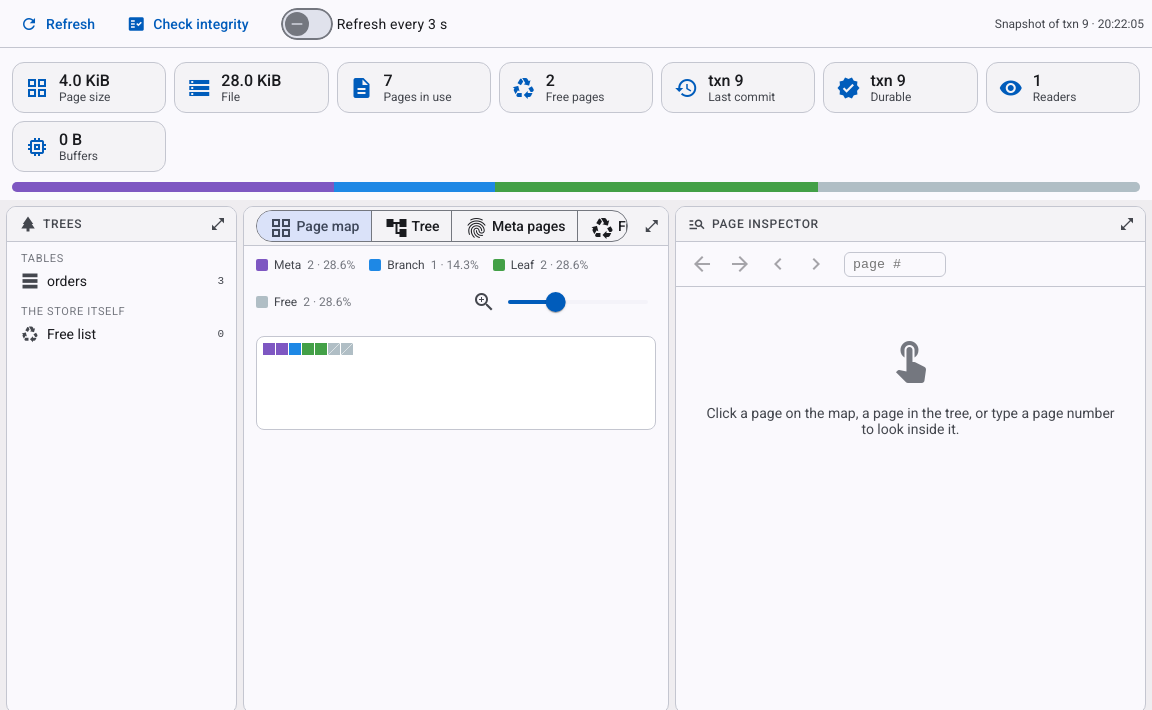
Scenario: VisualizeComponent › shows the meta pages, the current one marked
This screenshot has width=1152, height=710.
Step 1. Click the radio button labelled "Meta pages" → (515, 226), box x1=452 y1=211 x2=578 y2=241
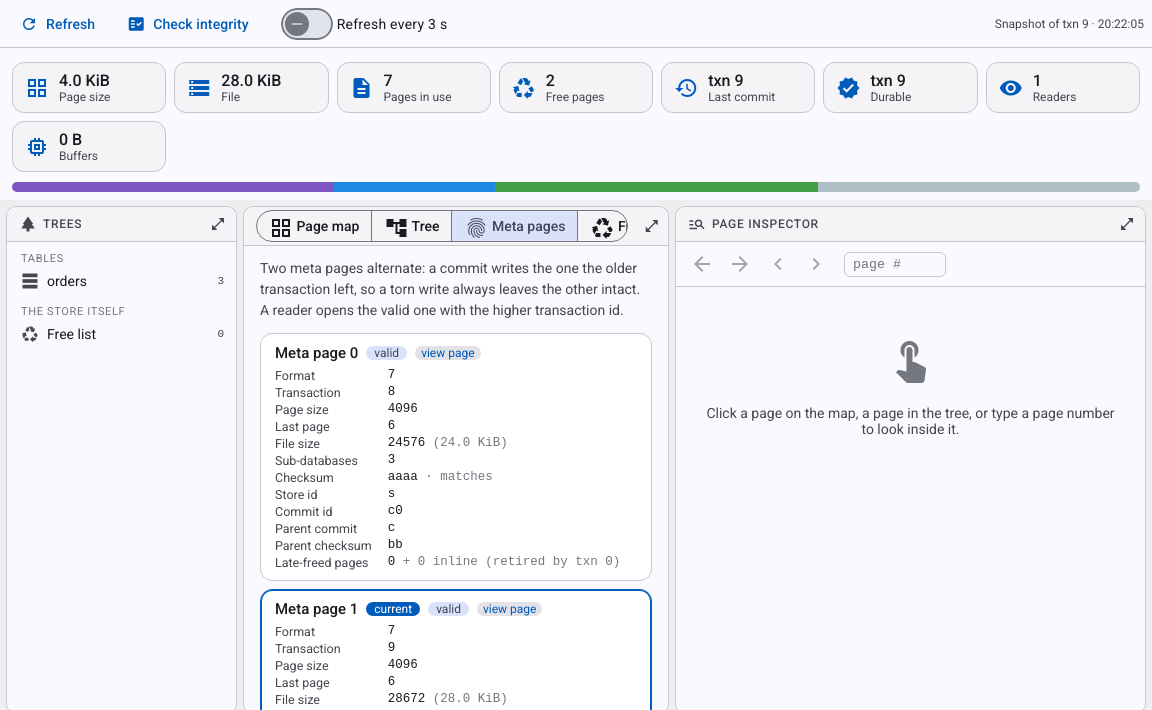
Check: the number of elements with class "meta-card" is 2
